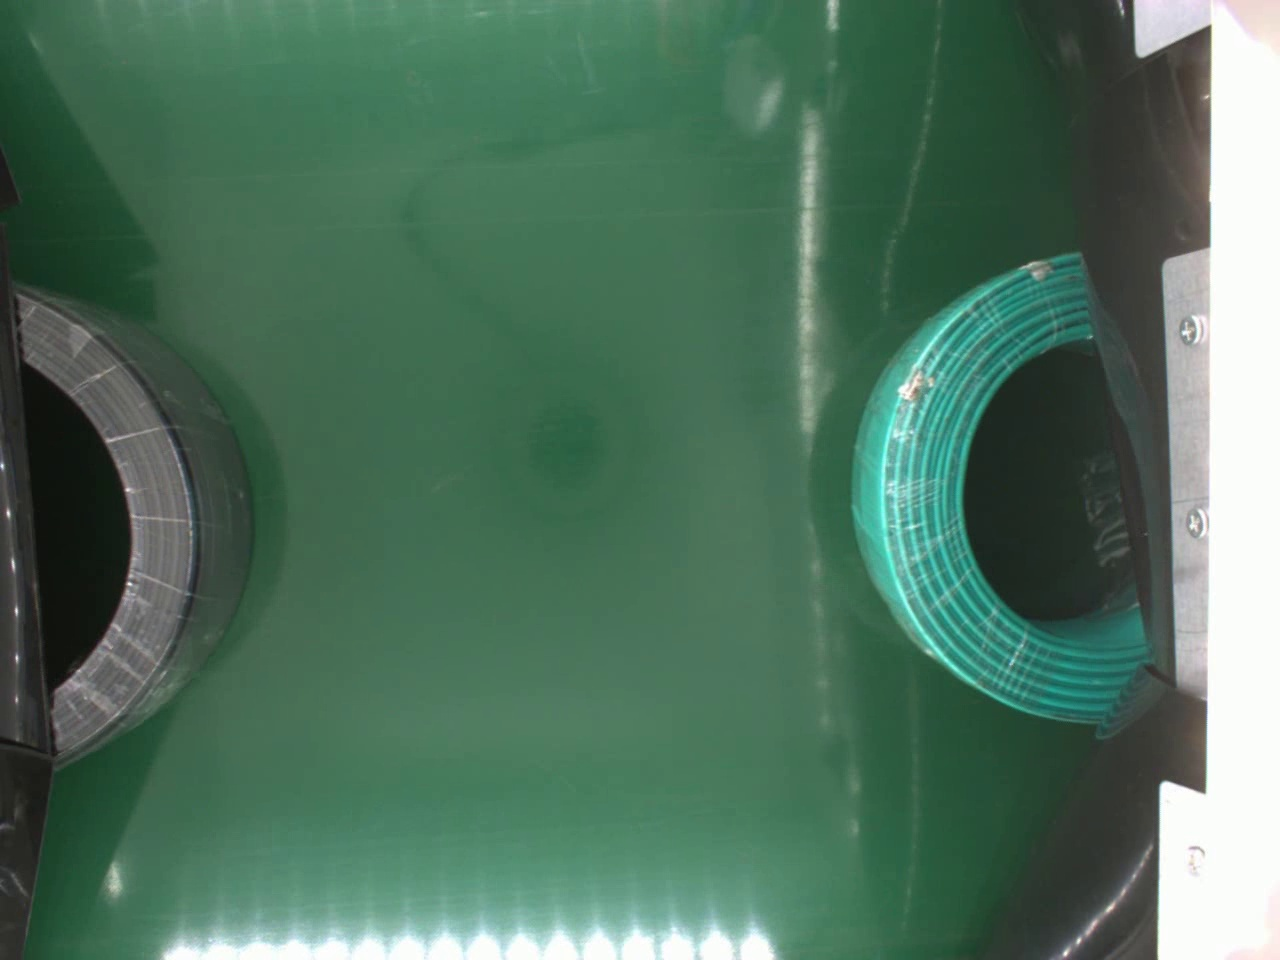black: (17, 278, 261, 777)
green: (852, 244, 1156, 720)
